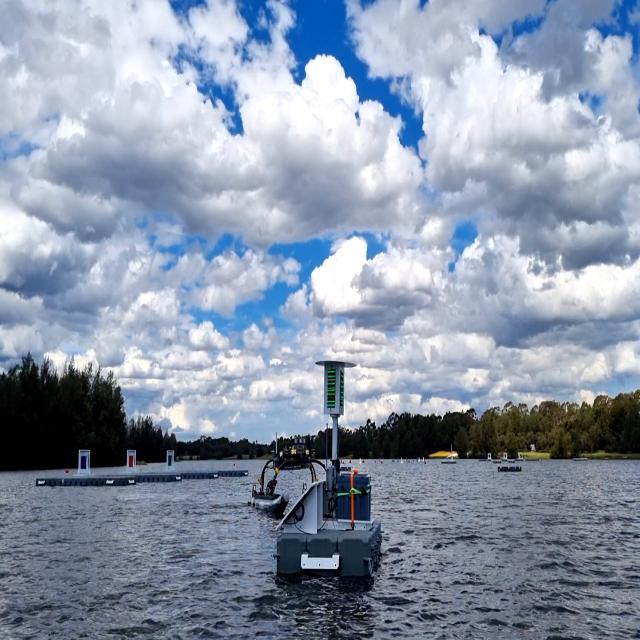led: (325, 365, 337, 412)
